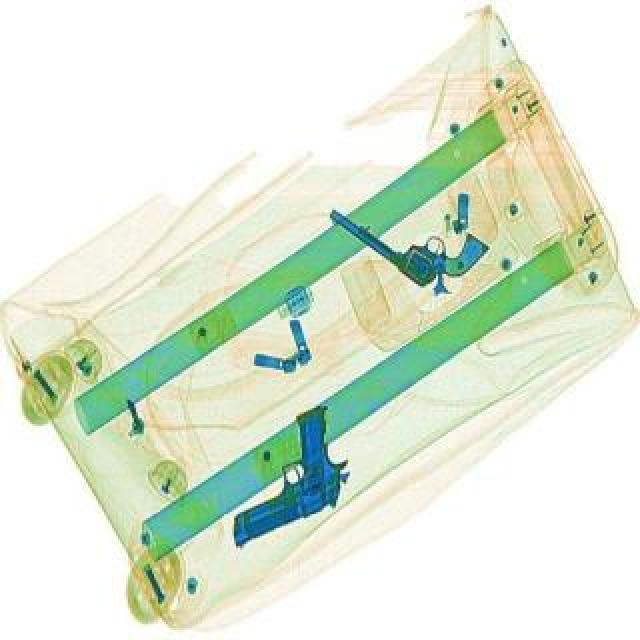gun: (192, 408, 368, 552), (322, 166, 490, 306)
